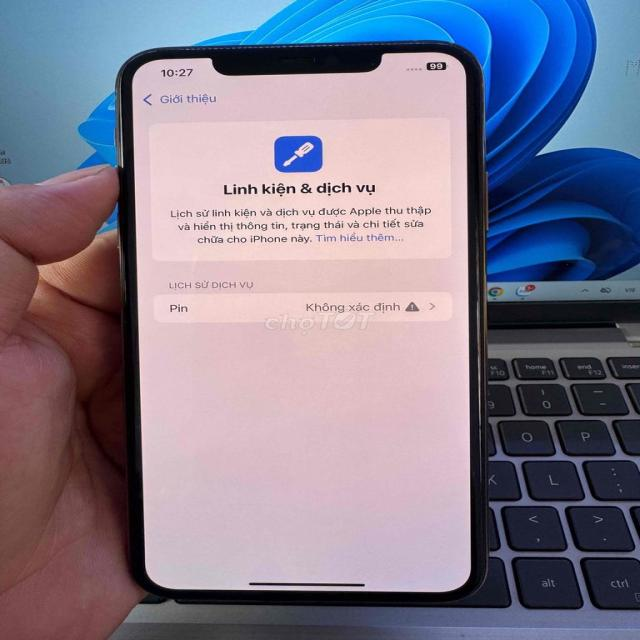gen_11: (108, 36, 504, 614)
